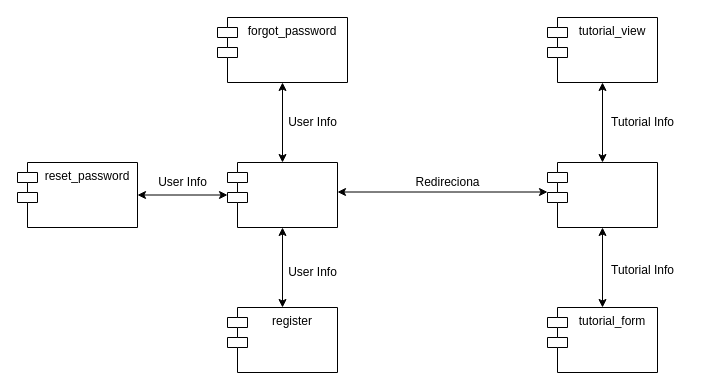
This 705x390 diagram has some shape labels left out. The centre of each missing label's shape, as x and y in pixels:
"index" belongs at (x=602, y=195).
"login" belongs at (x=282, y=195).
